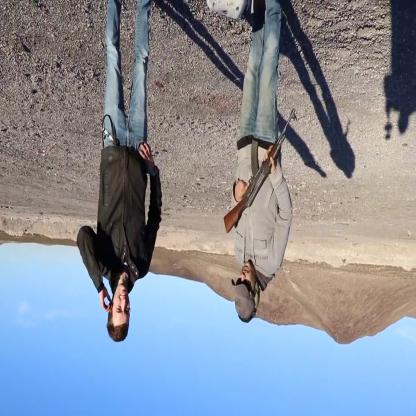long weapon: (224, 104, 302, 234)
